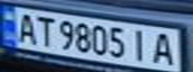0: (90, 22, 109, 56)
5: (106, 25, 130, 60)
8: (72, 20, 93, 54)
9: (54, 17, 75, 52)
A: (148, 29, 178, 66), (12, 10, 39, 45)
I: (127, 27, 154, 62)
T: (30, 14, 57, 47)
